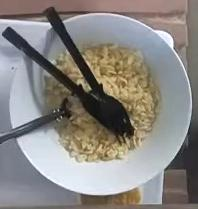cereal: (82, 43, 159, 137), (46, 77, 119, 162)
